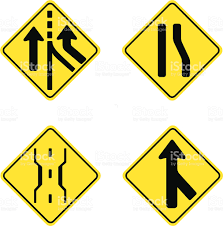Narrow_road: (119, 1, 223, 100)
